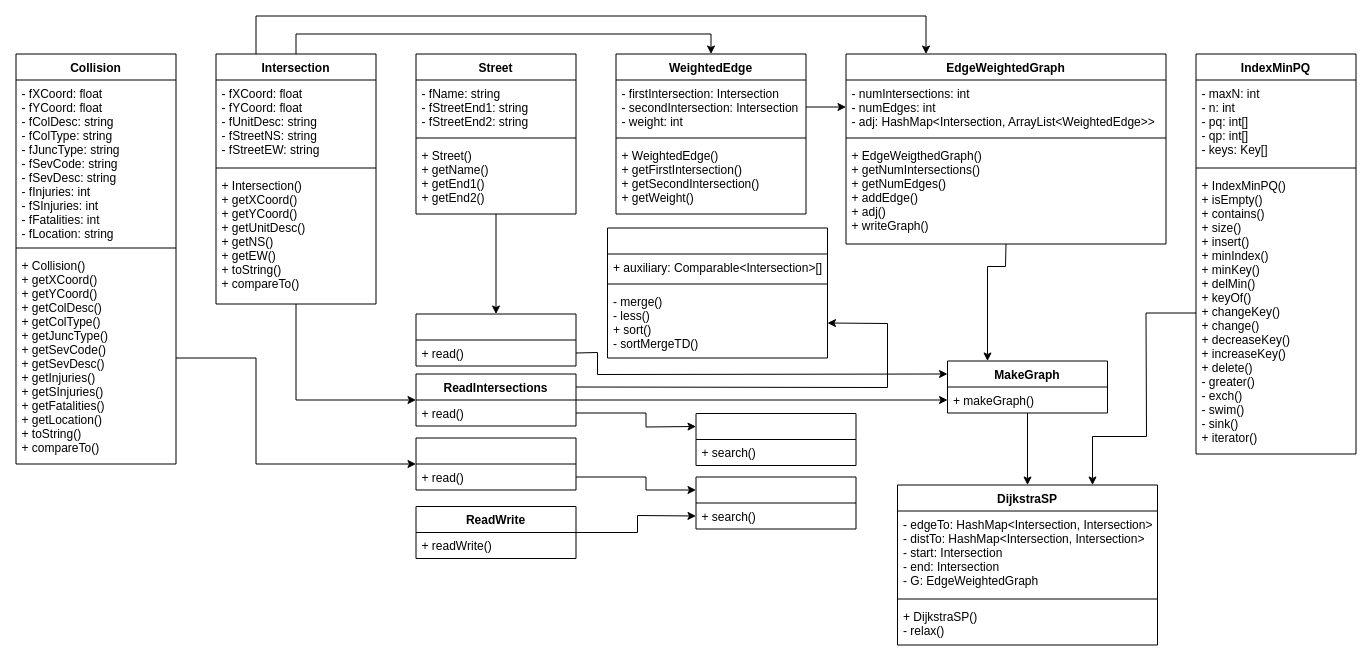
This 1372x661 diagram has some shape labels left out. Here are the shapes that lost their labels. From the top down, the box of each, then its label:
(606, 227, 828, 358): SortIntersectionDropDown
(415, 313, 576, 366): ReadStreets
(695, 412, 856, 466): SearchIntersections
(415, 437, 576, 490): ReadCollisions
(695, 476, 856, 529): SearchCollision
